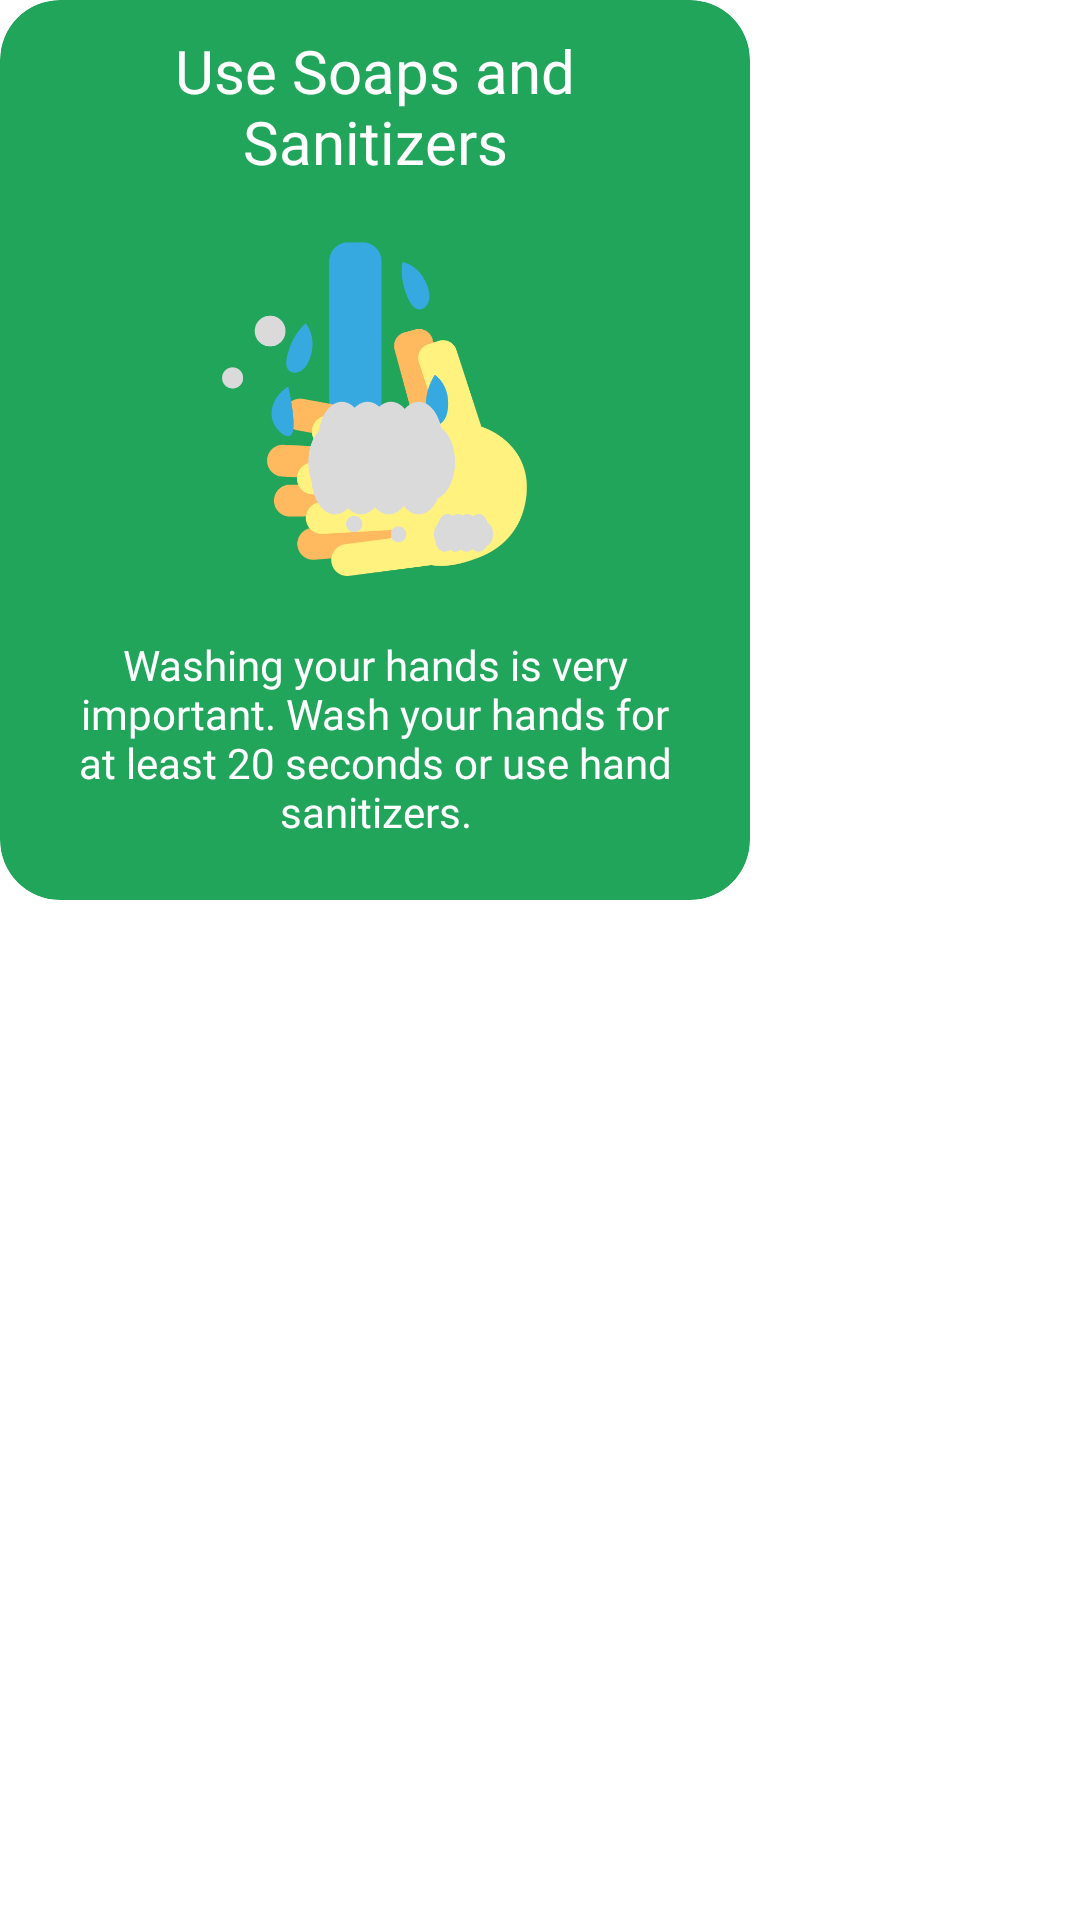

Where icons sit on this 1080px×1920px app screen, as (x1, y1, x2, y2):
handwash: (222, 242, 527, 576)
